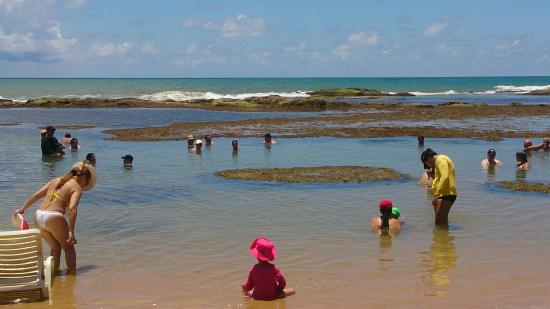Humano: (33, 159, 99, 277), (241, 233, 303, 302), (419, 149, 463, 225), (366, 197, 408, 238), (36, 124, 66, 158), (479, 145, 504, 174), (513, 150, 532, 177), (119, 154, 137, 171), (67, 136, 83, 154), (226, 138, 244, 153), (82, 149, 97, 165), (258, 133, 277, 145), (190, 139, 204, 154), (201, 133, 213, 148), (185, 135, 196, 147)
